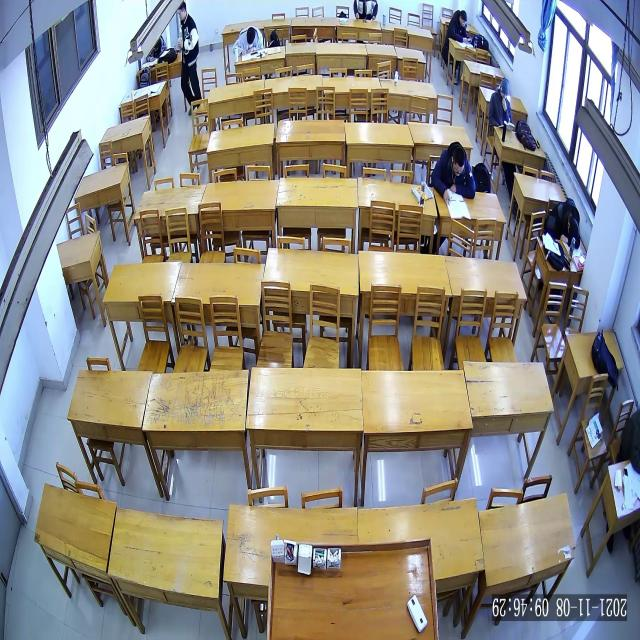bow: (432, 142, 476, 204), (548, 198, 581, 248), (232, 26, 264, 56)
down: (452, 144, 465, 176), (500, 79, 510, 101), (246, 26, 256, 44), (459, 9, 467, 28)
sit: (177, 2, 202, 112), (489, 78, 512, 128), (448, 9, 472, 44)
